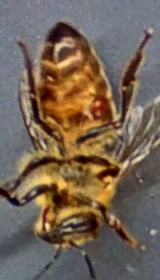varroa_mite: (80, 82, 116, 130)
